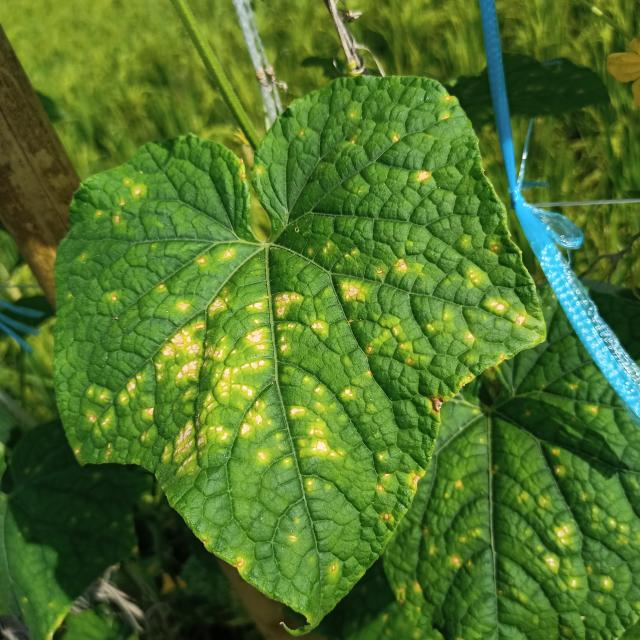disease_cucumber: (60, 104, 510, 556)
